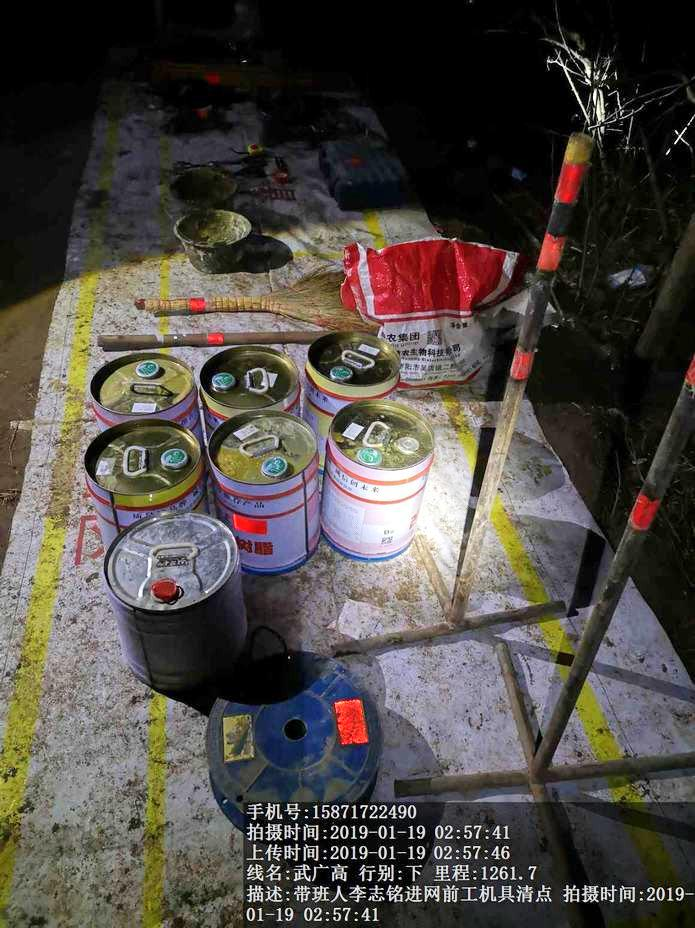SB: (130, 267, 349, 338)
SNT: (163, 206, 256, 273)
